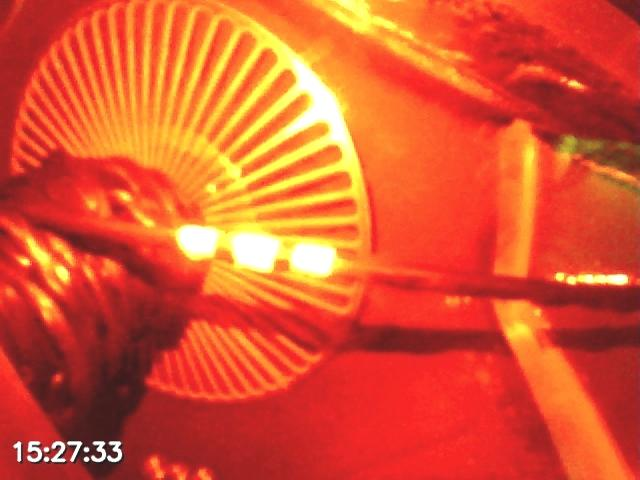white-dots: (175, 224, 339, 279)
